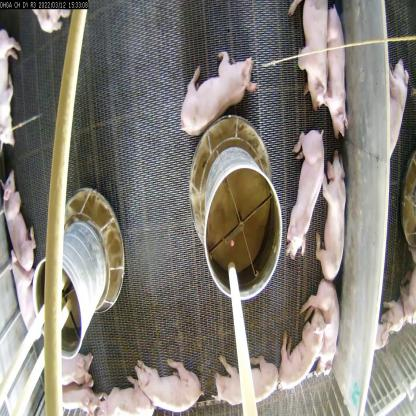Pig: (175, 42, 266, 138), (283, 117, 326, 268), (123, 342, 208, 415), (208, 341, 281, 411), (287, 0, 330, 112), (0, 165, 42, 274), (0, 23, 32, 158), (318, 142, 348, 278), (9, 248, 51, 344), (302, 274, 340, 378), (275, 308, 324, 388), (321, 2, 348, 140), (94, 370, 164, 415), (385, 45, 410, 166), (51, 337, 98, 389)
